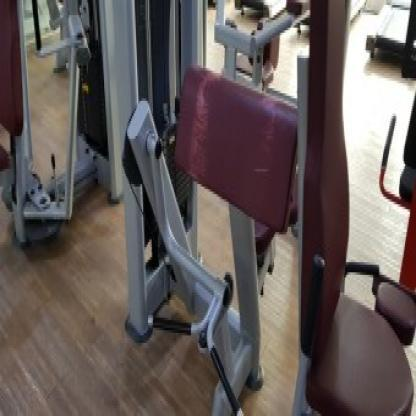arm curl machine: (115, 60, 299, 416)
